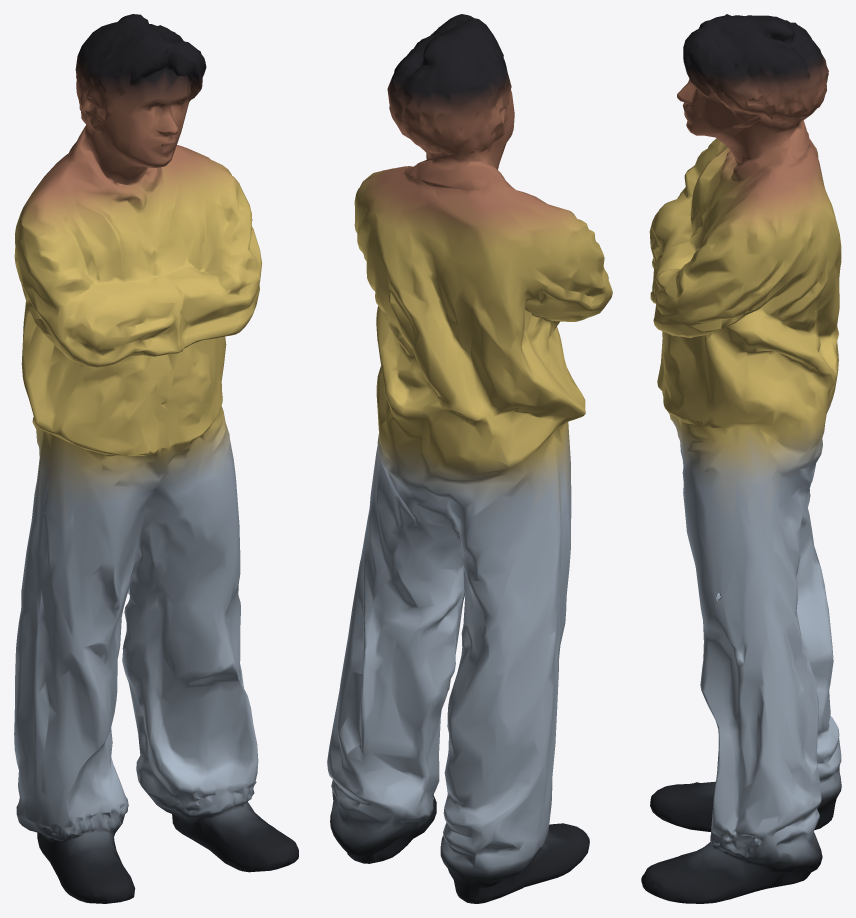
File: akash-avatar-mobile.glb
The picture shows the model from 3 angles, left to right: view 1: azimuth 30°, elevation 25°; view 2: azimuth 150°, elevation 25°; view 3: azimuth 270°, elevation 25°; orthographic projection.
Parts seen in each view (by area): view 1: geometry_0; view 2: geometry_0; view 3: geometry_0.
Boxes of the visible parts, x1,y1,x2,y2 form: geometry_0: (14, 14, 298, 903); geometry_0: (327, 14, 612, 903); geometry_0: (641, 14, 841, 903).
Size of the model in its own units: 0.307 by 0.9993 by 0.2177.
